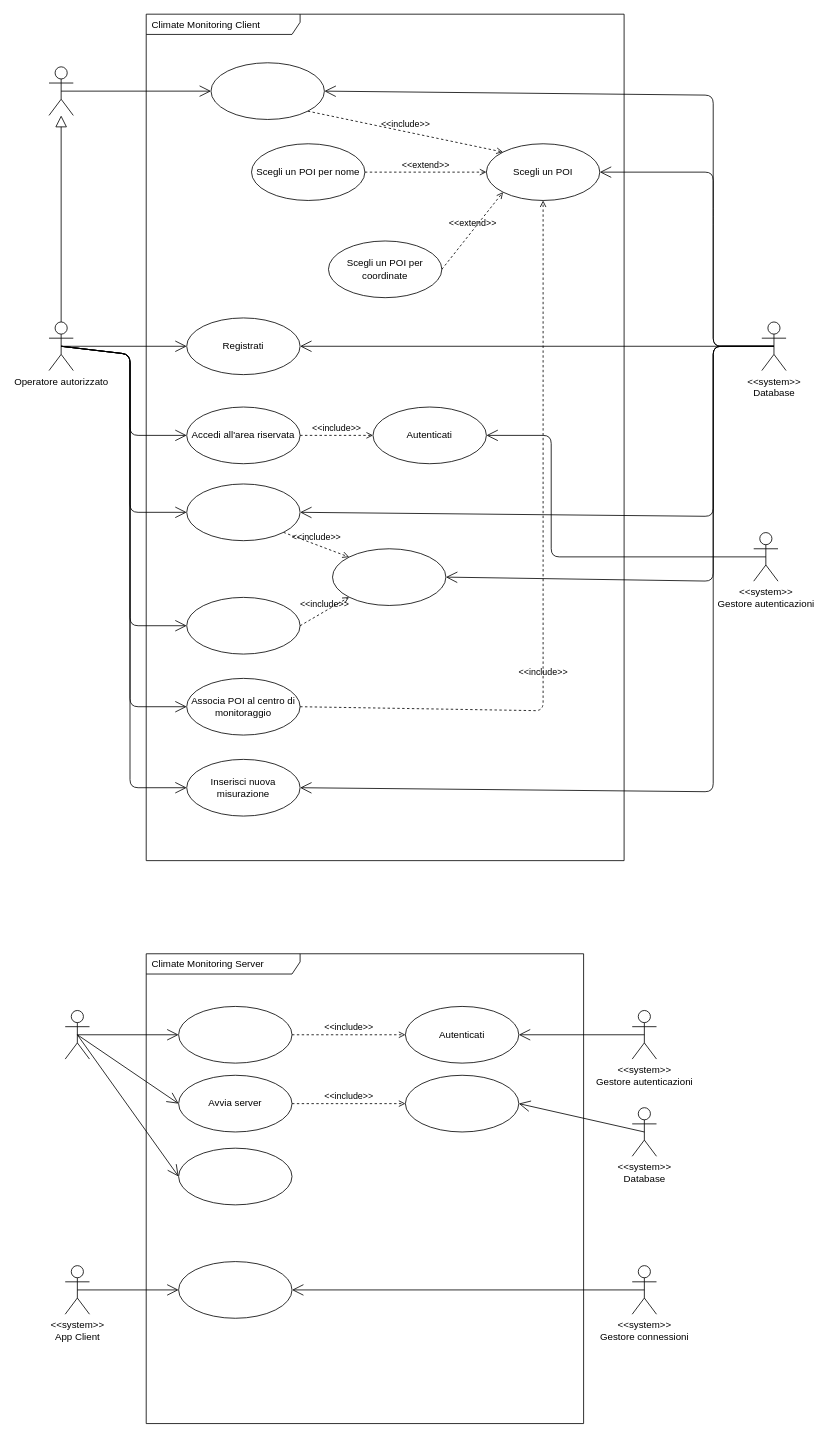
Some shapes in this 828 by 1438 pixel diagram are drawn without their labels. Here are the shapes that lost their labels. From the top down, the centre of each, then its label:
At point (60, 90): "Utente".
At point (267, 90): "Consulta dati delle misurazioni".
At point (243, 512): "Registra centro di monitoraggio".
At point (389, 576): "Associati a centro di monitoraggio esistente".
At point (243, 625): "Gestisci associamento a centri di monitoraggio".
At point (77, 1034): "Amministratore".
At point (235, 1034): "Accedi alle utility di back-end".
At point (462, 1103): "Effettua connessione con DB".
At point (235, 1176): "Spegni server".
At point (235, 1289): "Effettua richiesta di connessione".
